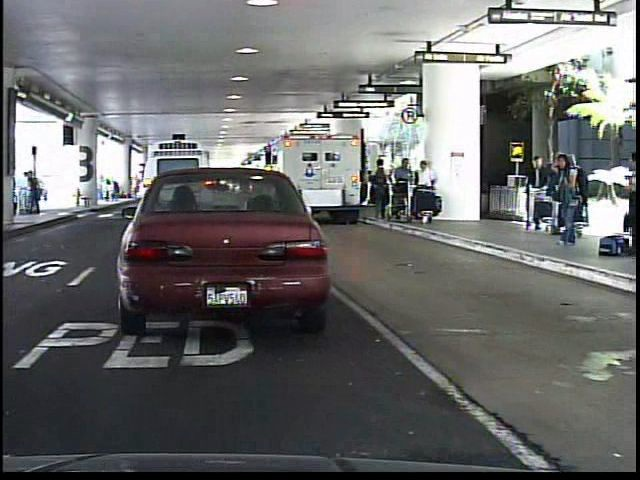person: (618, 146, 640, 264)
